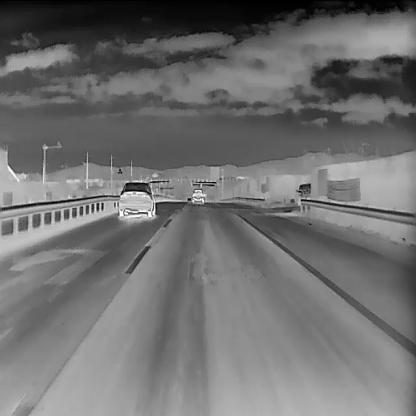car: (118, 180, 158, 216), (296, 183, 313, 205), (191, 187, 206, 202)
